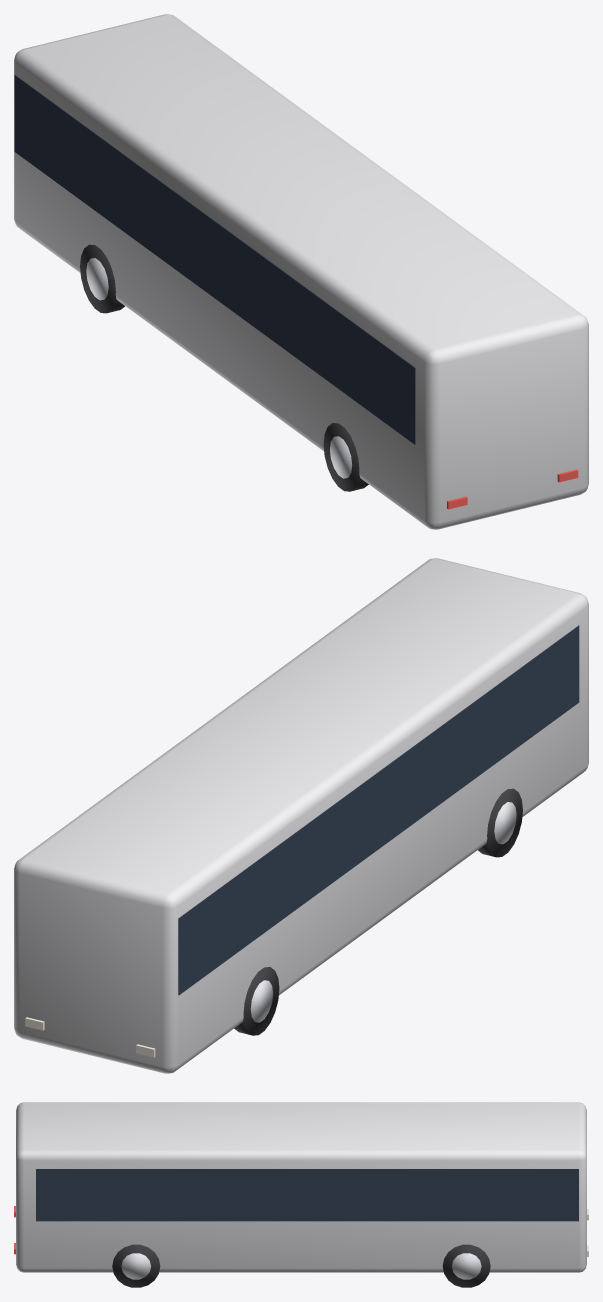
File: bus_astana.glb
3 views of the same model, one above another, from view 1: azimuth 30°, elevation 25°; view 2: azimuth 150°, elevation 25°; view 3: azimuth 270°, elevation 25° (orthographic). The views are drawn at different scales.
Parts seen in each view (by area): view 1: Cube, Cube.001, Cylinder, Cylinder.002, Cylinder.001, Cylinder.003; view 2: Cube, Cube.001, Cylinder.002, Cylinder, Cylinder.003, Cylinder.001; view 3: Cube, Cube.001, Cylinder.004, Cylinder.006, Cylinder.005, Cylinder.007.
Part boxes in pixels (x1,y1,x2,y2): Cube: (14, 14, 588, 529); Cube.001: (14, 75, 415, 444); Cylinder: (323, 423, 368, 491); Cylinder.002: (80, 244, 124, 313); Cylinder.001: (330, 436, 352, 478); Cylinder.003: (86, 258, 108, 300); Cube: (14, 558, 588, 1073); Cube.001: (178, 625, 579, 995); Cylinder.002: (234, 967, 279, 1035); Cylinder: (478, 788, 522, 857); Cylinder.003: (250, 980, 272, 1022); Cylinder.001: (494, 802, 516, 844); Cube: (16, 1102, 586, 1272); Cube.001: (36, 1169, 578, 1221); Cylinder.004: (112, 1244, 160, 1287); Cylinder.006: (442, 1244, 490, 1287); Cylinder.005: (121, 1253, 150, 1279); Cylinder.007: (452, 1253, 481, 1279).
Bounding box in the file's own units: 2.58 × 2.96 × 11.49.
